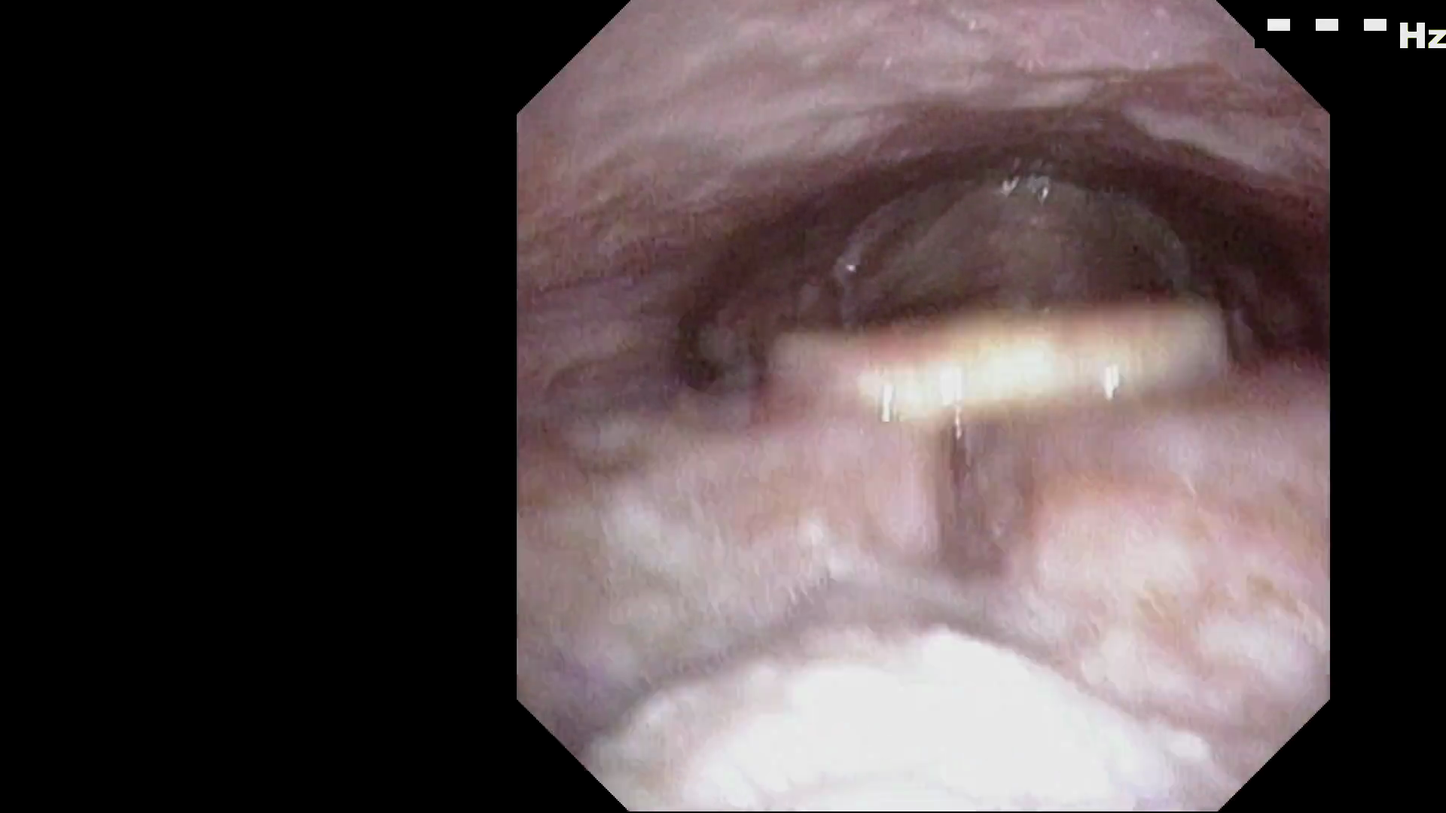epiglottis: (783, 227, 1211, 387)
